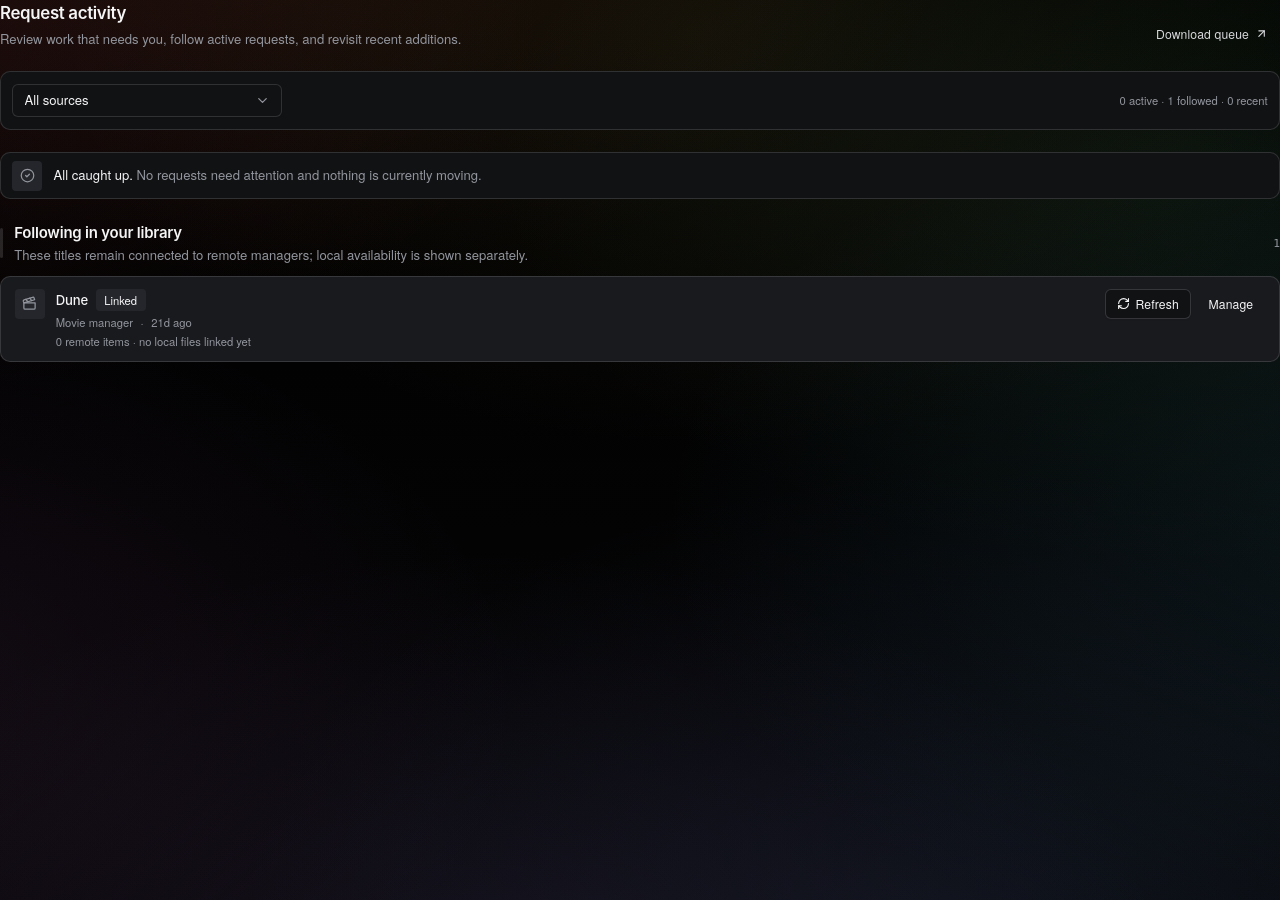
request activity › retains last known rows and does not claim all-clear after a partial refresh failure
Check: the heading "Dune" is shown, box x1=56 y1=291 x2=88 y2=310
Click the button "Refresh" at (1148, 304), box x1=1104 y1=289 x2=1191 y2=319
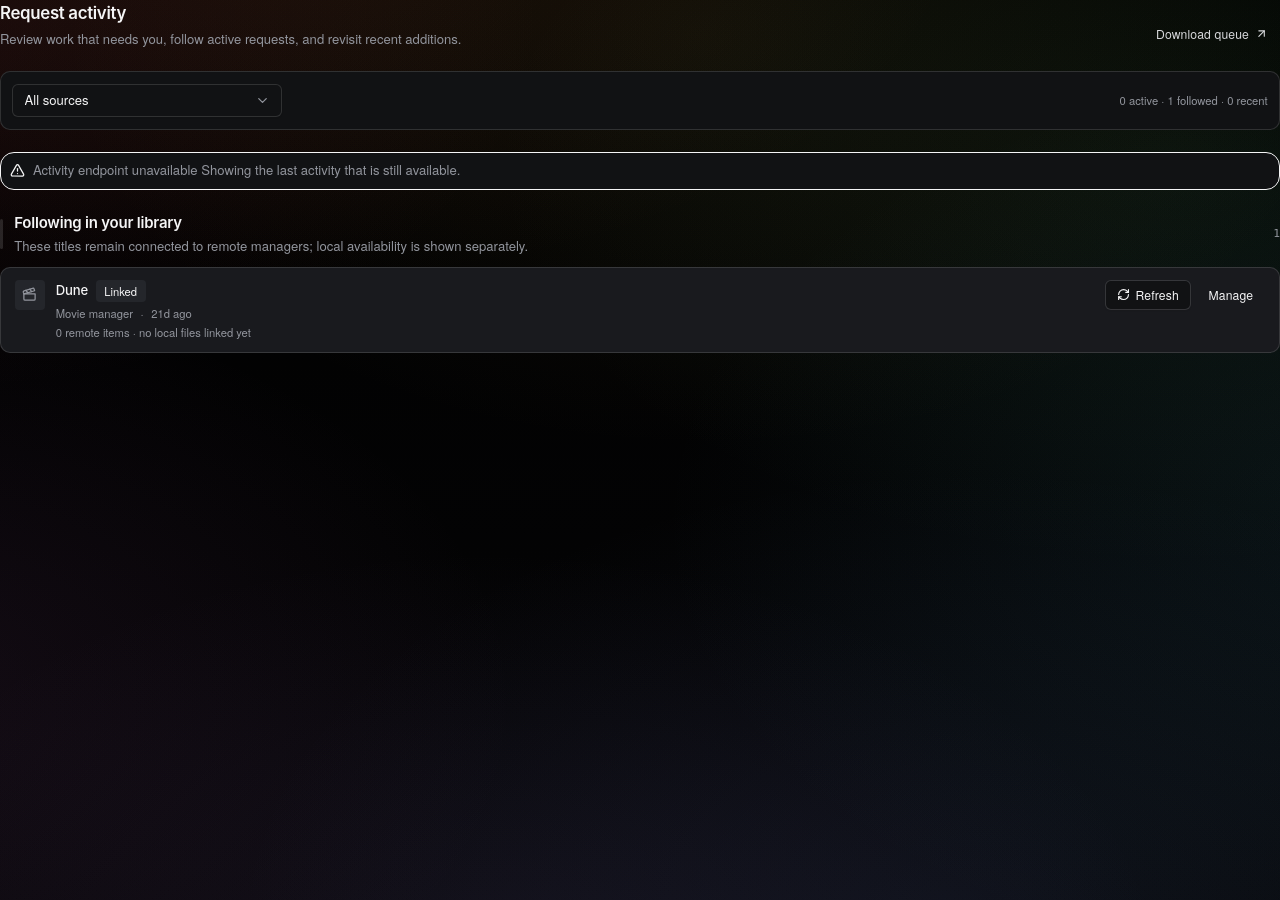
Check: the heading "Dune" is shown, box x1=56 y1=281 x2=88 y2=300
Check: the text "Activity endpoint unavailable" is shown, box x1=33 y1=160 x2=460 y2=178
Check: the text "All caught up." is gone
